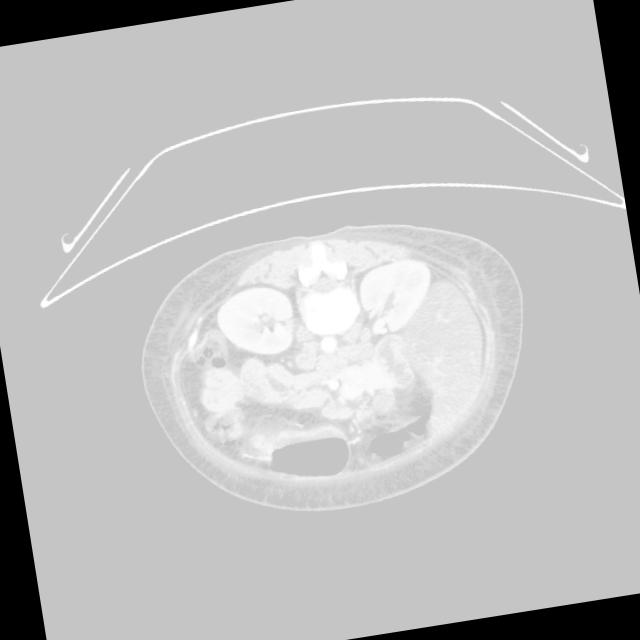NORMAL: (115, 141, 557, 546)
